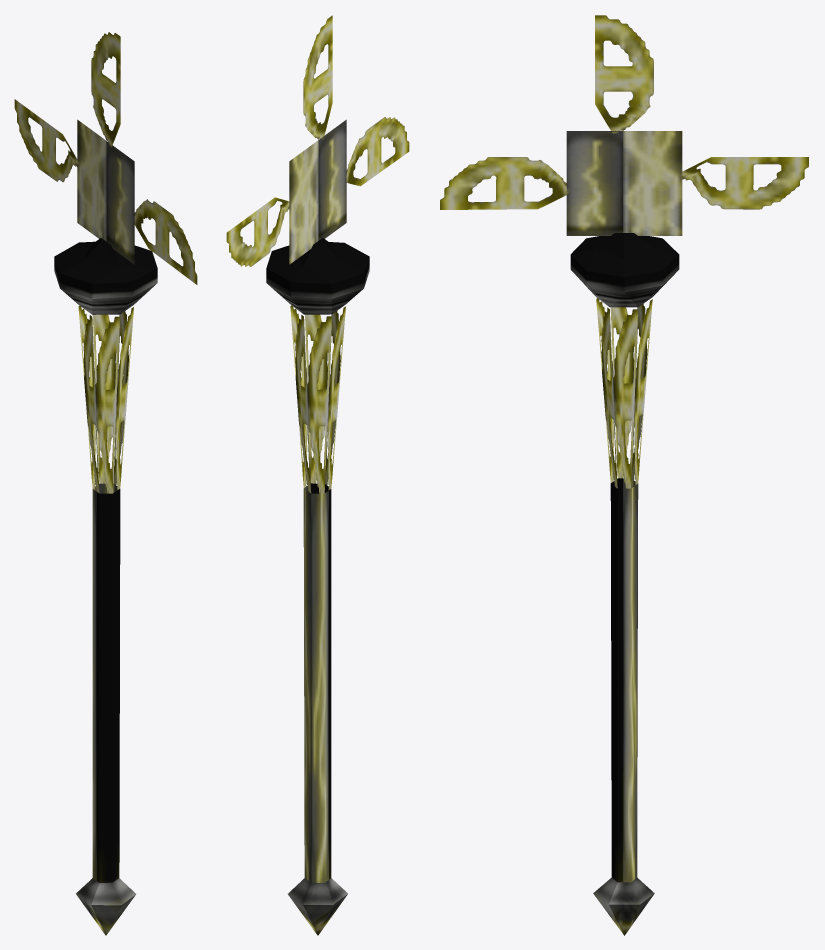
The model's file is wavemaster04_5.obj.
3 renders of one model, left to right at view 1: azimuth 30°, elevation 25°; view 2: azimuth 150°, elevation 25°; view 3: azimuth 270°, elevation 25°, orthographic.
Visible parts, largest first — view 1: wavemaster04_5; view 2: wavemaster04_5; view 3: wavemaster04_5.
Boxes of the visible parts, bbox=[...] form: wavemaster04_5: bbox=[14, 32, 197, 935]; wavemaster04_5: bbox=[226, 15, 409, 935]; wavemaster04_5: bbox=[440, 15, 808, 935].
Bounding box in the file's own units: 0.1375 × 1.3 × 0.475.
